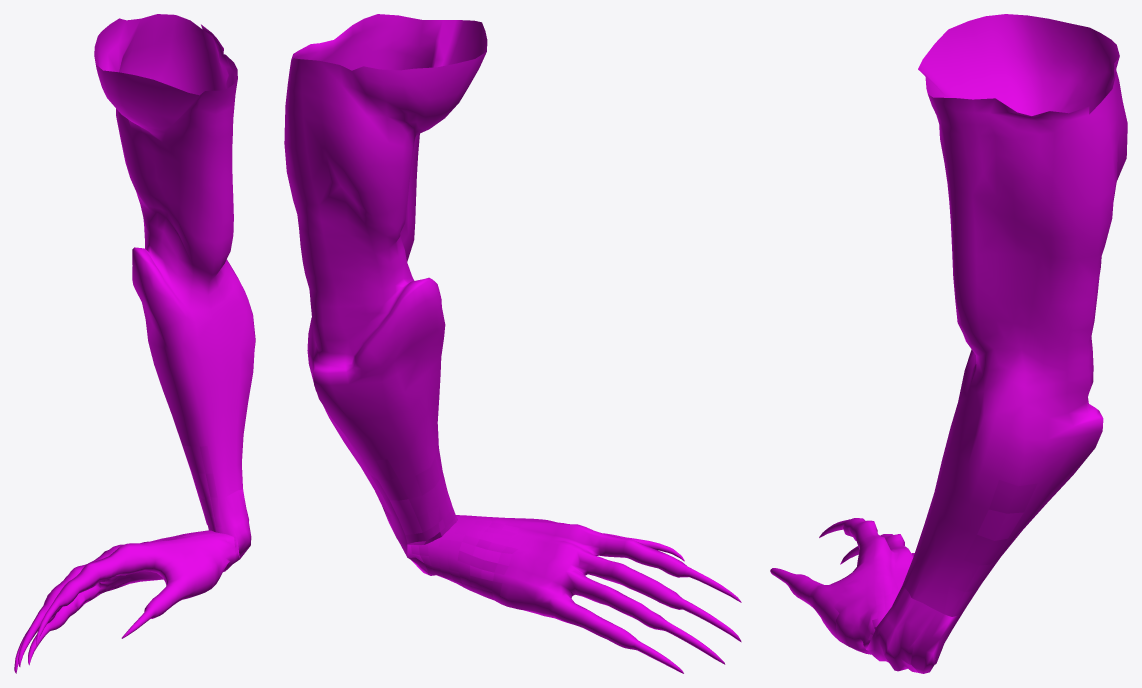
File: Arm.fbx
3 renders of one model, left to right at view 1: azimuth 30°, elevation 25°; view 2: azimuth 150°, elevation 25°; view 3: azimuth 270°, elevation 25°, orthographic. The views are drawn at different scales.
Visible parts, largest first — view 1: Mesh_Bio_Mutant; view 2: Mesh_Bio_Mutant; view 3: Mesh_Bio_Mutant.
Part boxes in pixels (x1=…): Mesh_Bio_Mutant: x1=14, y1=14, x2=255, y2=673; Mesh_Bio_Mutant: x1=284, y1=14, x2=741, y2=673; Mesh_Bio_Mutant: x1=770, y1=14, x2=1127, y2=673.
Size of the model in its own units: 3084 by 5376 by 2590.
